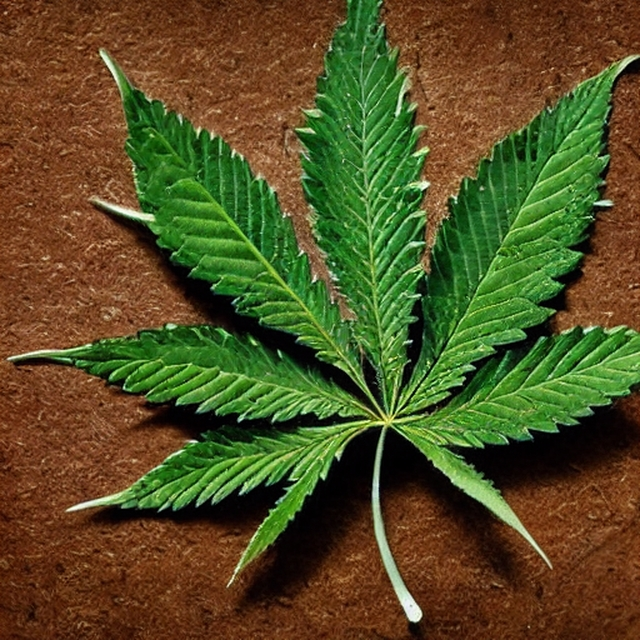Marijuana Leaf: (7, 0, 639, 622)
